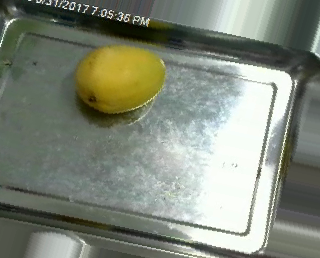Mango: (73, 44, 165, 114)
